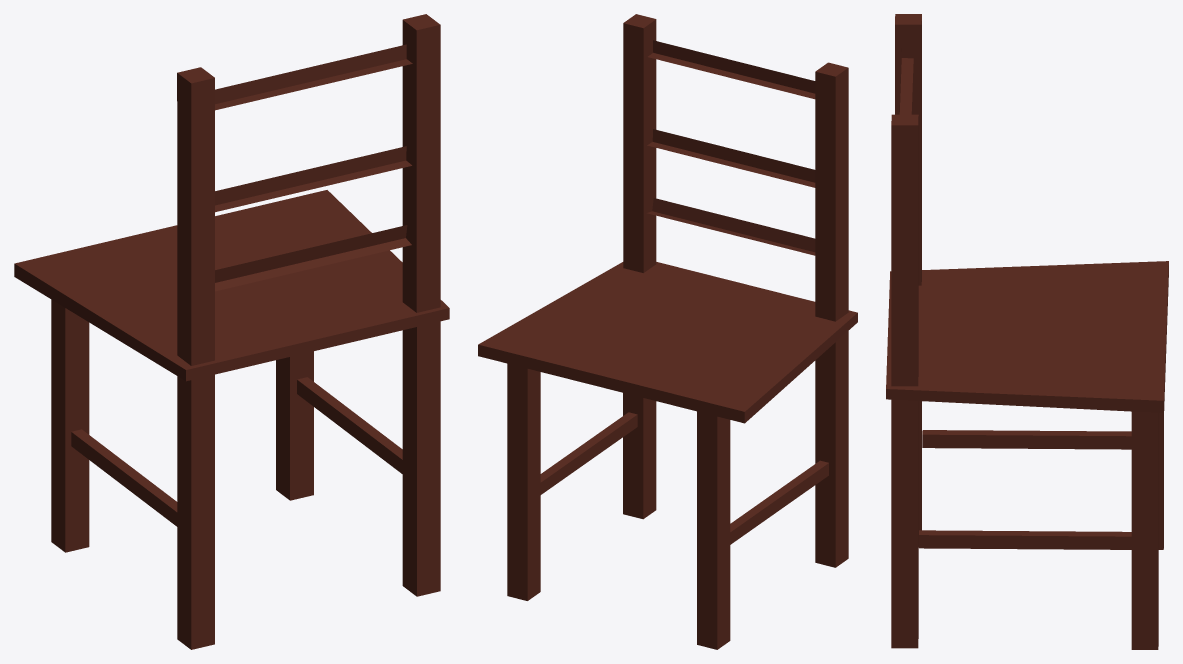
File: chair.fbx
3 renders of one model, left to right at view 1: azimuth 30°, elevation 25°; view 2: azimuth 150°, elevation 25°; view 3: azimuth 270°, elevation 25°, orthographic. The views are drawn at different scales.
Parts seen in each view (by area): view 1: chair.011; view 2: chair.011; view 3: chair.011.
Boxes of the visible parts, x1,y1,x2,y2 form: chair.011: [14, 14, 449, 649]; chair.011: [478, 14, 857, 649]; chair.011: [886, 14, 1168, 649].
Size of the model in its own units: 248 by 433 by 212.
